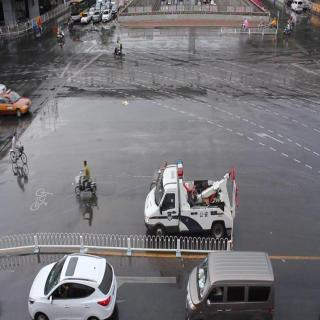BigCar: (67, 0, 93, 26)
Car: (172, 246, 284, 320), (139, 167, 242, 245), (29, 241, 119, 320), (0, 85, 31, 123), (78, 11, 90, 33), (92, 7, 103, 24), (101, 7, 111, 25)
